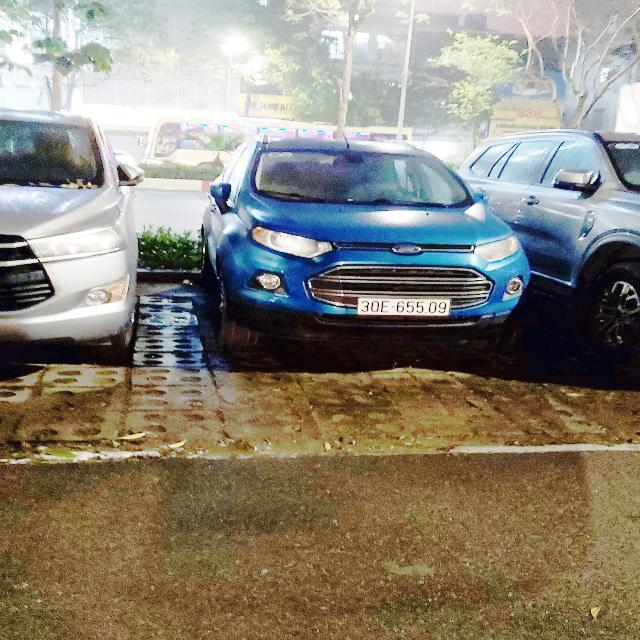license_plate: (356, 298, 453, 317)
